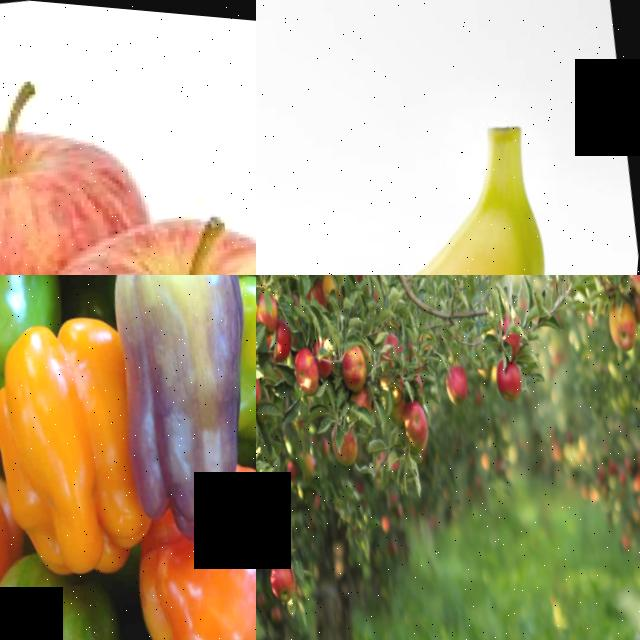apple: (0, 80, 163, 275), (6, 174, 256, 275), (401, 379, 454, 463), (323, 406, 379, 478), (405, 386, 444, 467), (337, 330, 381, 394), (491, 348, 538, 405), (600, 292, 640, 356), (294, 334, 331, 397), (491, 293, 532, 348), (444, 357, 484, 413), (274, 551, 317, 600), (256, 277, 291, 336), (447, 357, 482, 409), (308, 275, 350, 308), (256, 521, 272, 587), (256, 361, 273, 422)
banana: (256, 42, 627, 275)
bell pepper: (0, 294, 145, 563), (102, 275, 256, 523), (127, 499, 256, 640), (0, 579, 131, 640), (0, 275, 56, 402)
